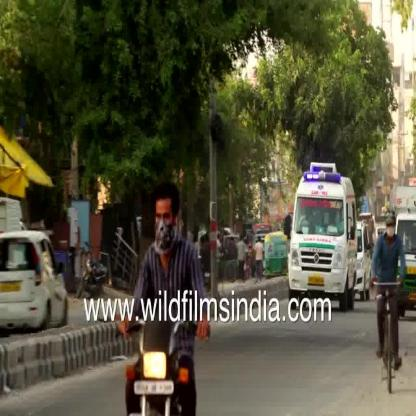priority: (284, 157, 358, 303)
